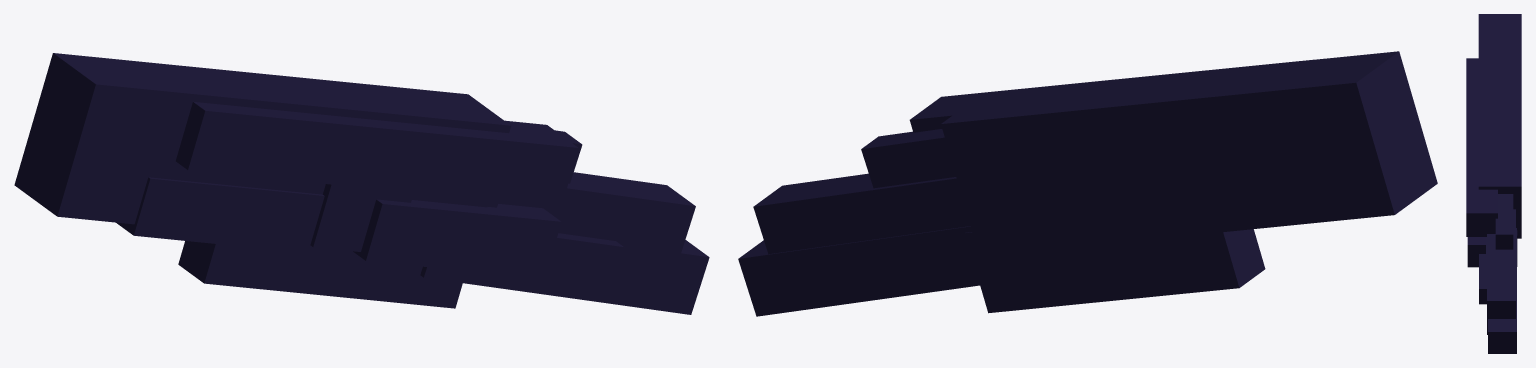
Rendered from DesertBuilding2.fbx.
The picture shows the model from 3 angles, left to right: view 1: azimuth 30°, elevation 25°; view 2: azimuth 150°, elevation 25°; view 3: azimuth 270°, elevation 25°; orthographic projection. The views are drawn at different scales.
Parts seen in each view (by area): view 1: Cube.016, Cube.018, Cube.021, Cube.017, Cube.019, Cube.023, Cube.022, Cube.020, Cube.025; view 2: Cube.016, Cube.017, Cube.022, Cube.023, Cube.024, Cube.018; view 3: Cube.016, Cube.018, Cube.023, Cube.022, Cube.024, Cube.021, Cube.025.
Boxes of the visible parts, x1,y1,x2,y2 form: Cube.016: [14, 53, 510, 224]; Cube.018: [176, 101, 578, 207]; Cube.021: [353, 199, 561, 278]; Cube.017: [178, 241, 462, 308]; Cube.019: [116, 177, 324, 253]; Cube.023: [498, 172, 695, 294]; Cube.022: [420, 240, 709, 314]; Cube.020: [310, 184, 413, 251]; Cube.025: [545, 233, 624, 286]; Cube.016: [941, 51, 1437, 256]; Cube.017: [965, 229, 1265, 313]; Cube.022: [738, 226, 979, 316]; Cube.023: [753, 173, 970, 254]; Cube.024: [861, 129, 956, 188]; Cube.018: [909, 60, 1309, 132]; Cube.016: [1478, 14, 1521, 238]; Cube.018: [1466, 58, 1497, 236]; Cube.023: [1487, 209, 1515, 334]; Cube.022: [1488, 228, 1516, 353]; Cube.024: [1495, 194, 1513, 249]; Cube.021: [1467, 237, 1485, 267]; Cube.025: [1479, 237, 1486, 304].
Size of the model in its own units: 840 by 467 by 122.
